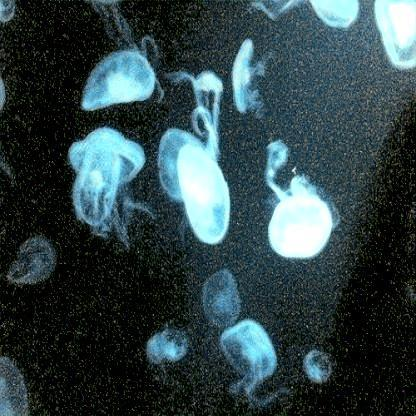Speckle: (155, 76, 219, 242), (67, 130, 153, 241), (261, 141, 340, 259), (179, 104, 235, 242), (223, 322, 291, 408), (82, 43, 166, 109), (71, 142, 119, 226), (200, 269, 244, 353), (234, 39, 272, 121), (374, 2, 416, 71), (252, 4, 359, 27), (8, 241, 59, 289), (0, 358, 28, 416), (305, 347, 335, 383), (144, 333, 170, 368), (163, 330, 188, 362)
